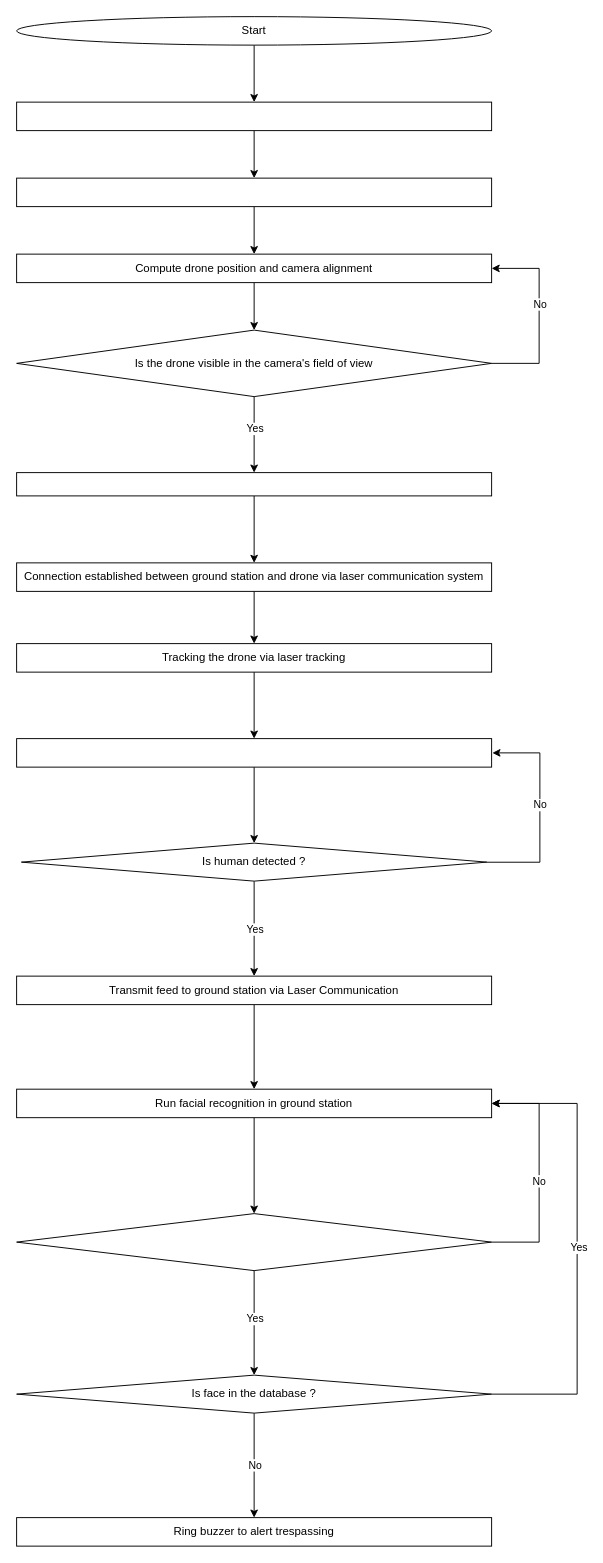
Image size: 603x1563. Some labels were removed from this diagram. The box of each missing label's shape, as (x1, y1, x2, y2) in pixels:
Fine tuning the camera to establlish connection: (16, 472, 492, 496)
Is face recognisable ?: (16, 1213, 492, 1271)
Recieve drone's positional data via RF reciever on ground station: (16, 177, 492, 207)
Transmission of drone's positional data via RF transmitter: (16, 101, 492, 131)
Visual input from camera for human detection on drone: (16, 738, 492, 767)
